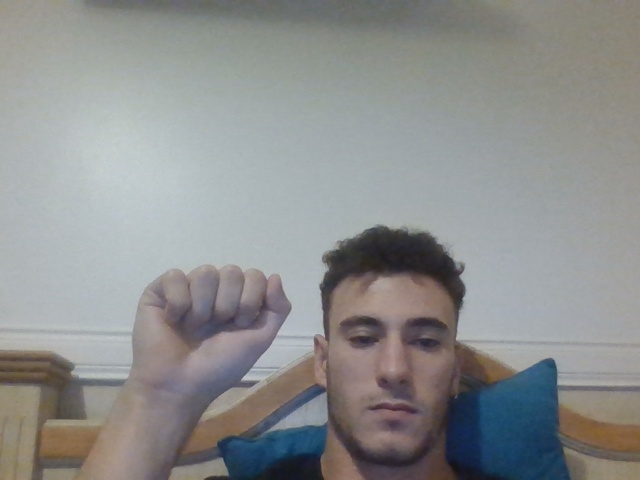Stop: (131, 264, 292, 392)
